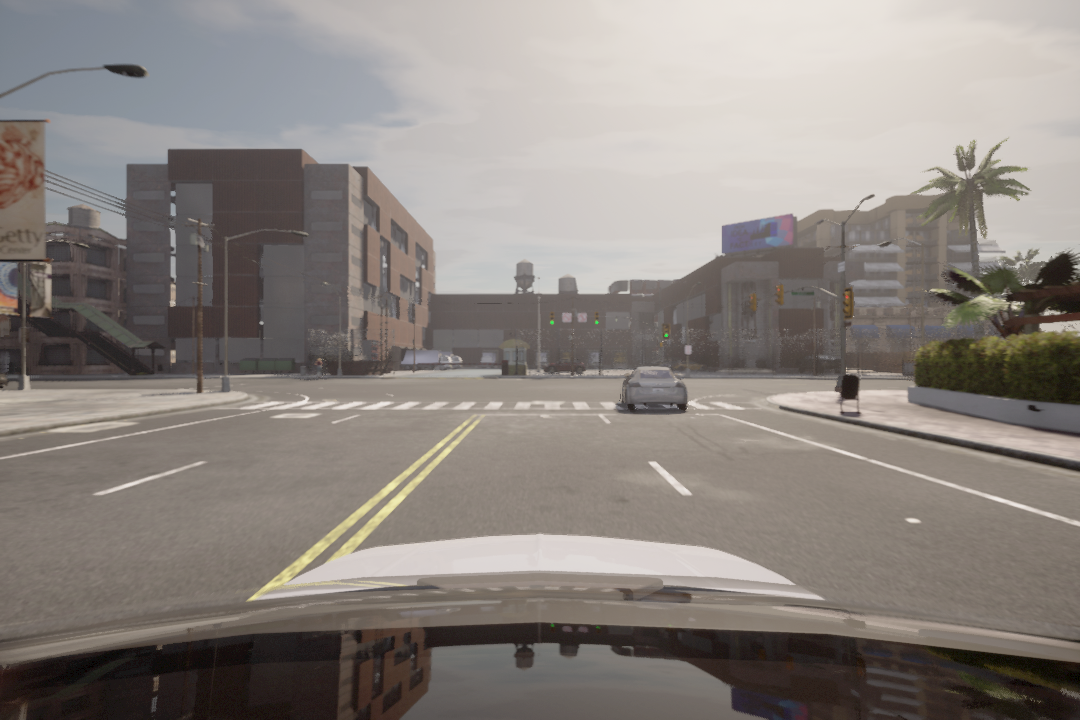TrafficLight: (843, 286, 855, 318), (773, 283, 785, 308), (748, 293, 758, 312), (662, 322, 670, 340), (548, 310, 555, 326), (594, 311, 600, 325)
walkside: (242, 397, 754, 415)
